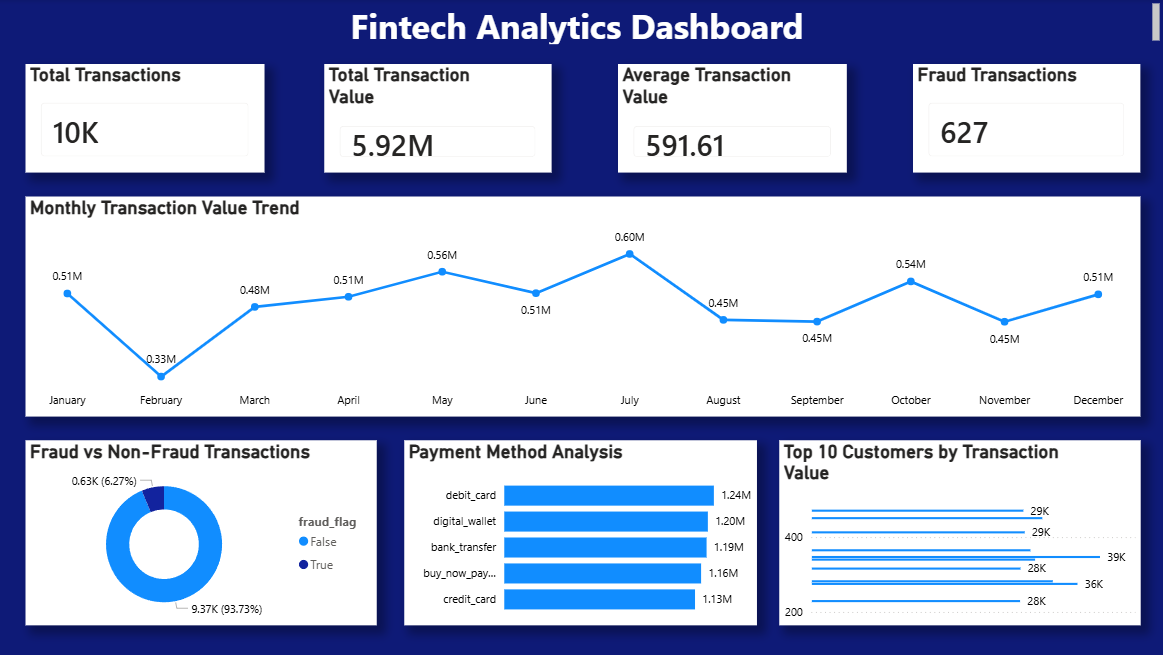

The dashboard page shown, as its layout file describes it:
{"tool":"powerbi","page":{"name":"Page 1","canvas":[1280,720],"ordinal":0},"visuals":[{"type":"cardVisual","title":"Total Transactions","fields":{"Data":["CountNonNull(transactions.transaction_id)"]},"box":[30.2,71.4,262.1,119.4],"z":1000},{"type":"cardVisual","title":"Total Transaction Value","fields":{"Data":["Sum(transactions.amount)"]},"box":[358.1,71.4,249.7,119.4],"z":2000},{"type":"cardVisual","title":"Average Transaction Value","fields":{"Data":["Avg(transactions.amount)"]},"box":[680.6,71.4,251.1,119.4],"z":3000},{"type":"cardVisual","title":"Fraud Transactions","fields":{"Data":["CountNonNull(transactions.transaction_id)"]},"box":[1004.5,71.4,249.7,119.4],"z":4000},{"type":"lineChart","title":"Monthly Transaction Value Trend","fields":{"Category":["transactions.transaction_time.Variation.Date Hierarchy.Month"],"Y":["Sum(transactions.amount)"]},"box":[30.2,216.8,1224,241.5],"z":5000},{"type":"donutChart","title":"Fraud vs Non-Fraud Transactions","fields":{"Category":["transactions.fraud_flag"],"Y":["CountNonNull(transactions.transaction_id)"]},"box":[30.2,484.4,385.6,203.1],"z":6000},{"type":"clusteredBarChart","title":"Payment Method Analysis","fields":{"Category":["transactions.payment_method"],"Y":["Sum(transactions.amount)"]},"box":[446,484.4,387,203.1],"z":7000},{"type":"clusteredBarChart","title":"Top 10 Customers by Transaction Value","fields":{"Category":["transactions.customer_id"],"Y":["Sum(transactions.amount)"]},"box":[857.6,484.4,396.6,203.1],"z":8000},{"type":"textbox","box":[0,0,1280.3,54.9],"z":8001}]}

Visuals, with their boxes in screenshot pixels (x1, y1, x2, y2), scaled from the page's 1280x720 canvas onto the 1163x655 screenshot:
"Total Transactions" cardVisual: left=27, top=65, right=266, bottom=174
"Total Transaction Value" cardVisual: left=325, top=65, right=552, bottom=174
"Average Transaction Value" cardVisual: left=618, top=65, right=847, bottom=174
"Fraud Transactions" cardVisual: left=913, top=65, right=1140, bottom=174
"Monthly Transaction Value Trend" lineChart: left=27, top=197, right=1140, bottom=417
"Fraud vs Non-Fraud Transactions" donutChart: left=27, top=441, right=378, bottom=625
"Payment Method Analysis" clusteredBarChart: left=405, top=441, right=757, bottom=625
"Top 10 Customers by Transaction Value" clusteredBarChart: left=779, top=441, right=1140, bottom=625
textbox: left=0, top=0, right=1162, bottom=50
